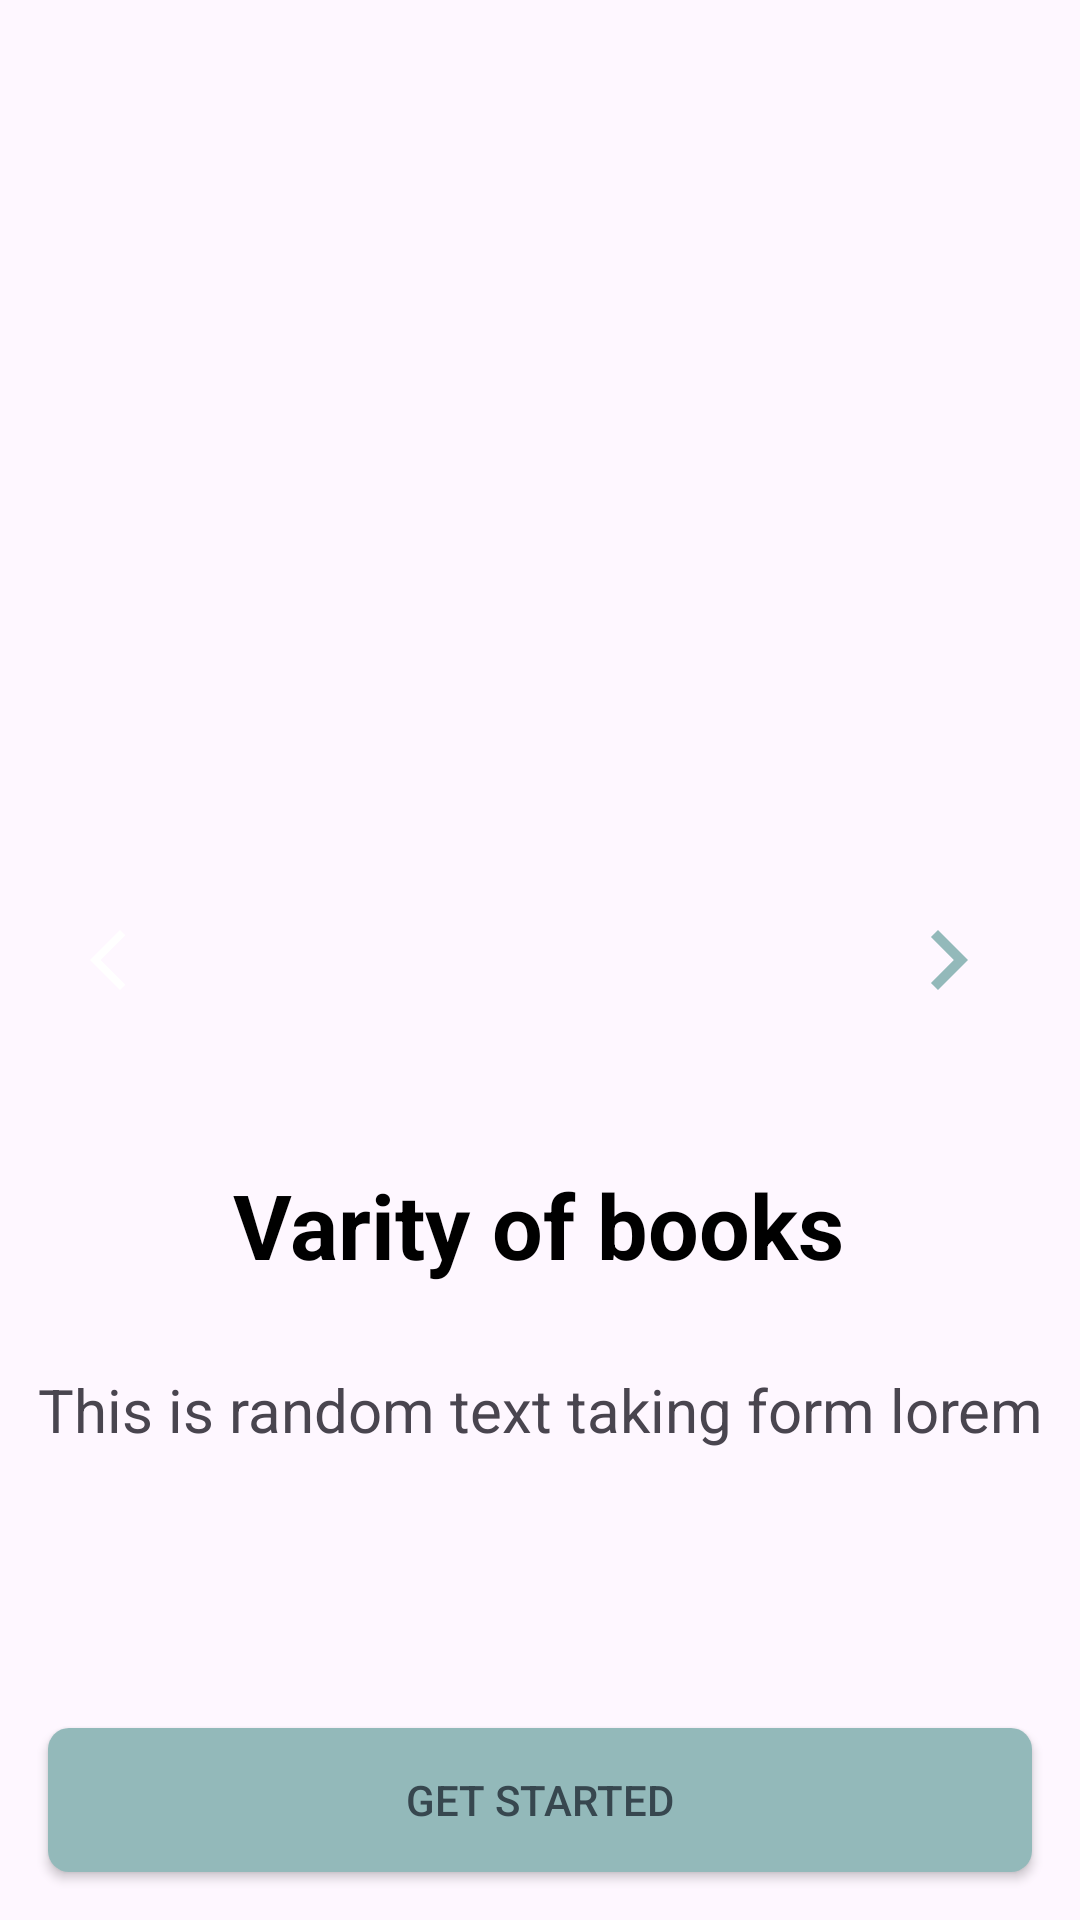

Screen size 1080px x 1920px. Icon name, then its box in pixels as [x1=x1, y1=y1, x2=x2, y2=y2]:
next: [x1=931, y1=930, x2=968, y2=990]
